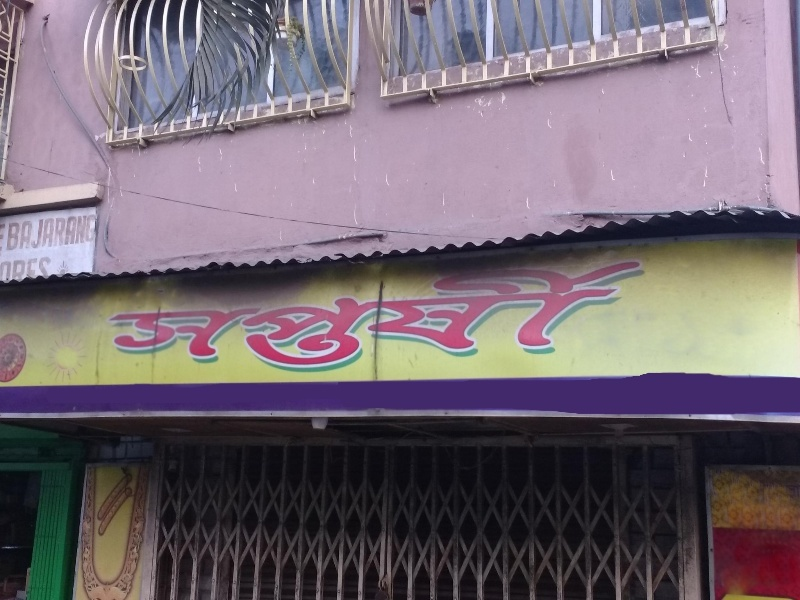text: (113, 247, 128, 386), (129, 247, 144, 386), (145, 247, 160, 386), (161, 247, 176, 386), (177, 247, 192, 386), (193, 247, 208, 386), (209, 247, 224, 386), (225, 247, 240, 386), (241, 247, 256, 386), (257, 247, 272, 386), (273, 247, 288, 386), (289, 247, 304, 386), (305, 247, 320, 386), (321, 247, 336, 386), (337, 247, 352, 386), (353, 247, 368, 386), (369, 247, 384, 386), (385, 247, 400, 386), (401, 247, 416, 386), (417, 247, 432, 386), (433, 247, 448, 386), (449, 247, 464, 386), (465, 247, 480, 386), (481, 247, 496, 386), (497, 247, 512, 386), (513, 247, 528, 386), (529, 247, 544, 386), (545, 247, 560, 386), (561, 247, 576, 386), (577, 247, 592, 386), (593, 247, 608, 386), (609, 247, 624, 386), (625, 247, 640, 386), (641, 247, 647, 386), (17, 215, 32, 250), (33, 215, 48, 250), (49, 215, 64, 250), (65, 215, 80, 250), (81, 215, 96, 250), (3, 215, 16, 250), (1, 258, 16, 281), (17, 258, 32, 281), (33, 258, 48, 281), (97, 215, 99, 250), (49, 258, 51, 281)
